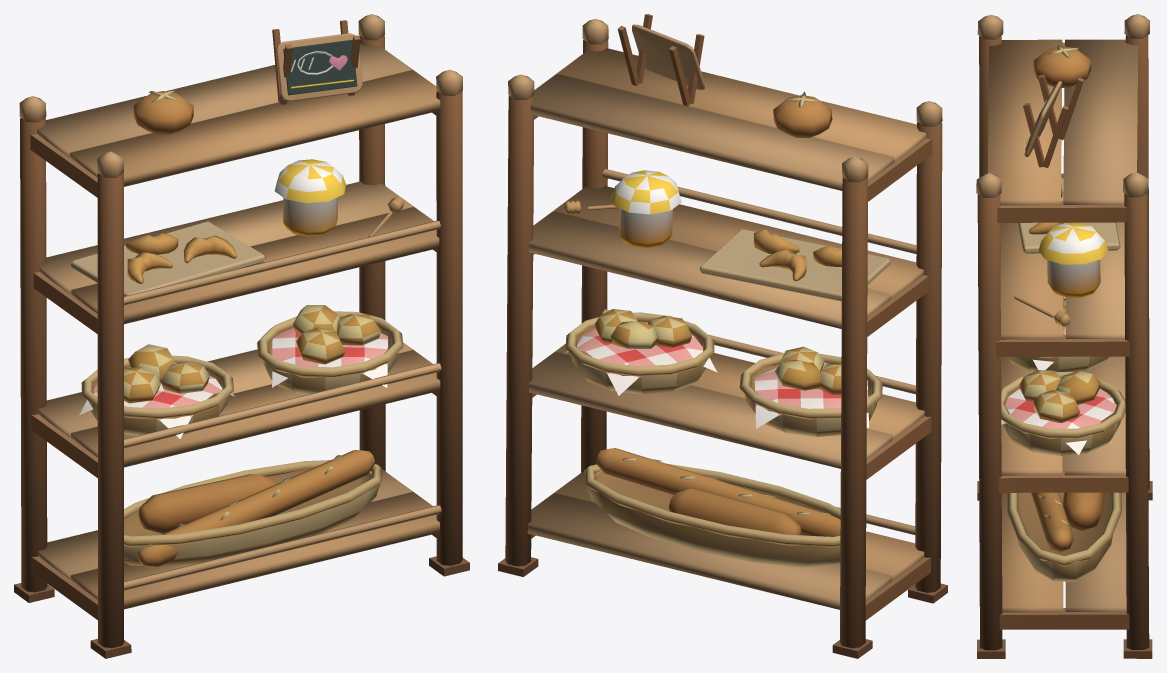
File: furn-breadShelf.glb
3 renders of one model, left to right at view 1: azimuth 30°, elevation 25°; view 2: azimuth 150°, elevation 25°; view 3: azimuth 270°, elevation 25°, orthographic. The views are drawn at different scales.
Parts seen in each view (by area): view 1: body, cloth; view 2: body, cloth; view 3: body, cloth.
Part boxes in pixels (x1=…): body: x1=14, y1=14, x2=469, y2=658; cloth: x1=79, y1=159, x2=387, y2=438; body: x1=498, y1=14, x2=947, y2=658; cloth: x1=564, y1=170, x2=868, y2=428; body: x1=976, y1=14, x2=1152, y2=658; cloth: x1=1001, y1=222, x2=1116, y2=454.
Size of the model in its own units: 0.9912 by 1.39 by 0.4329.
